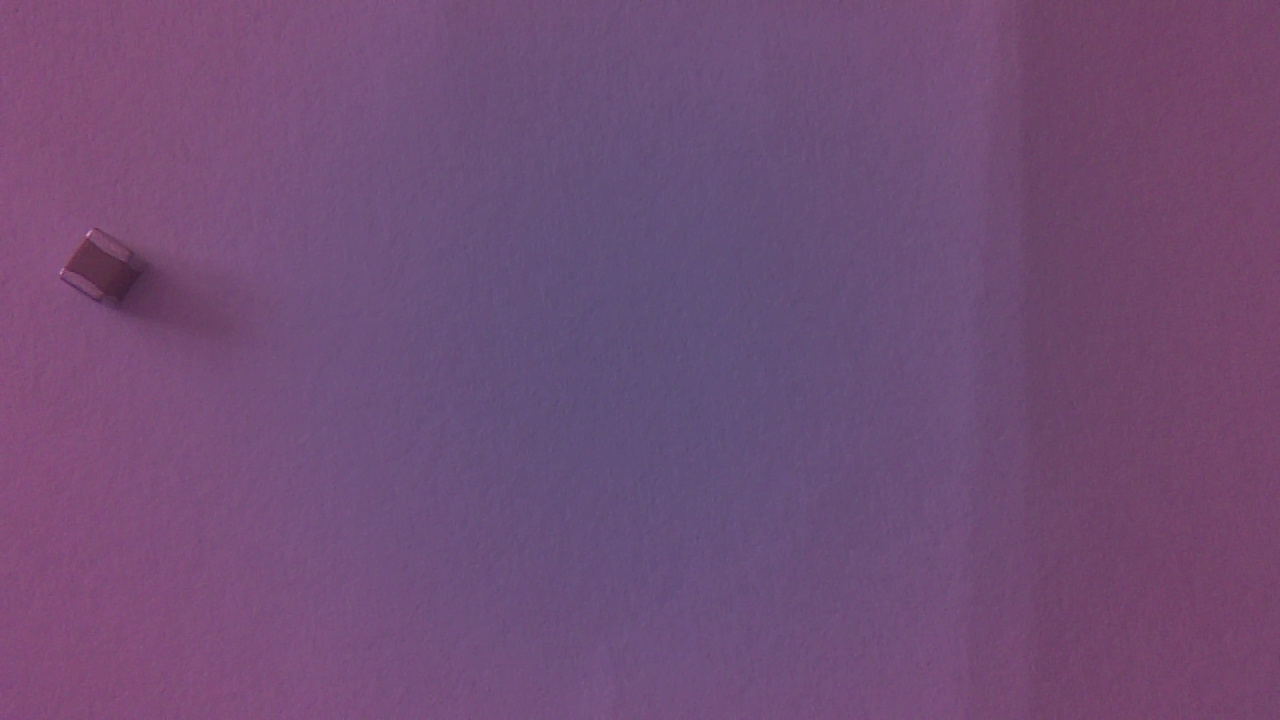Condensator: (57, 226, 153, 315)
